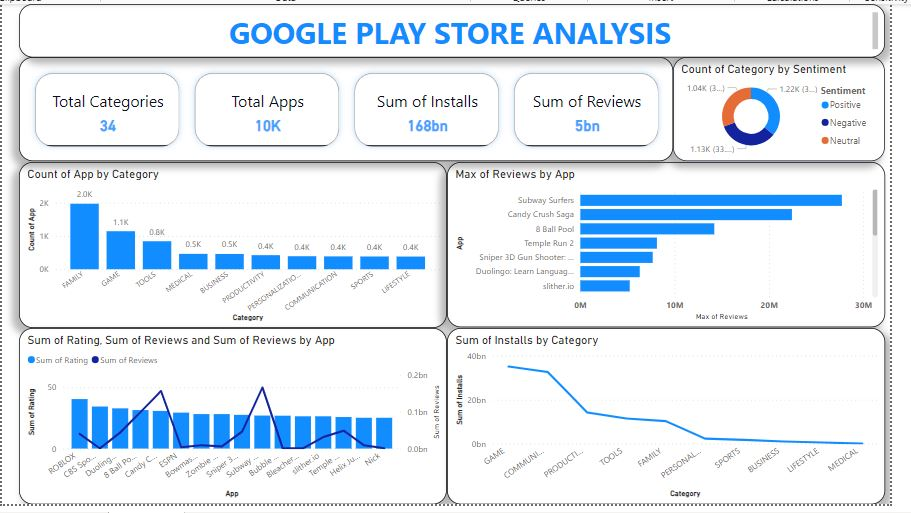

The dashboard page shown, as its layout file describes it:
{"tool":"powerbi","page":{"name":"Page 1","canvas":[1280,720],"ordinal":0},"visuals":[{"type":"clusteredColumnChart","fields":{"Category":["googleplaystore.Category"],"Y":["CountNonNull(googleplaystore.App)"]},"box":[24.1,228.1,616.3,239.5],"z":0},{"type":"lineStackedColumnComboChart","fields":{"Category":["googleplaystore.App"],"Y":["Sum(googleplaystore.Rating)"],"Y2":["Sum(googleplaystore.Reviews)"]},"box":[24.1,466.2,616.3,253.6],"z":1000},{"type":"clusteredBarChart","fields":{"Category":["googleplaystore.App"],"Y":["Max(googleplaystore.Reviews)"]},"box":[640.4,228.1,630.5,238],"z":2000},{"type":"lineChart","fields":{"Category":["googleplaystore.Category"],"Y":["Sum(googleplaystore.Installs)"]},"box":[640.4,466.2,630.5,253.6],"z":3000},{"type":"donutChart","fields":{"Category":["googleplaystore_user_reviews.Sentiment"],"Y":["CountNonNull(googleplaystore.Category)"]},"box":[966.3,76.5,304.6,150.2],"z":4000},{"type":"cardVisual","fields":{"Data":["googleplaystore.Total Categories","googleplaystore.Total Apps","Sum(googleplaystore.Installs)","Sum(googleplaystore.Reviews)"]},"box":[24.1,76.5,942.2,150.2],"z":5000},{"type":"textbox","box":[24.1,0,1246.9,76.5],"z":6000}]}

Visuals, with their boxes in screenshot pixels (x1, y1, x2, y2), scaled from the page's 1280x720 canvas onto the 911x513 screenshot:
clusteredColumnChart - googleplaystore.Category x CountNonNull(googleplaystore.App): left=17, top=163, right=456, bottom=333
lineStackedColumnComboChart - googleplaystore.App x Sum(googleplaystore.Rating): left=17, top=332, right=456, bottom=512
clusteredBarChart - googleplaystore.App x Max(googleplaystore.Reviews): left=456, top=163, right=905, bottom=332
lineChart - googleplaystore.Category x Sum(googleplaystore.Installs): left=456, top=332, right=905, bottom=512
donutChart - googleplaystore_user_reviews.Sentiment x CountNonNull(googleplaystore.Category): left=688, top=55, right=905, bottom=162
cardVisual - googleplaystore.Total Categories x googleplaystore.Total Apps: left=17, top=55, right=688, bottom=162
textbox: left=17, top=0, right=905, bottom=55
